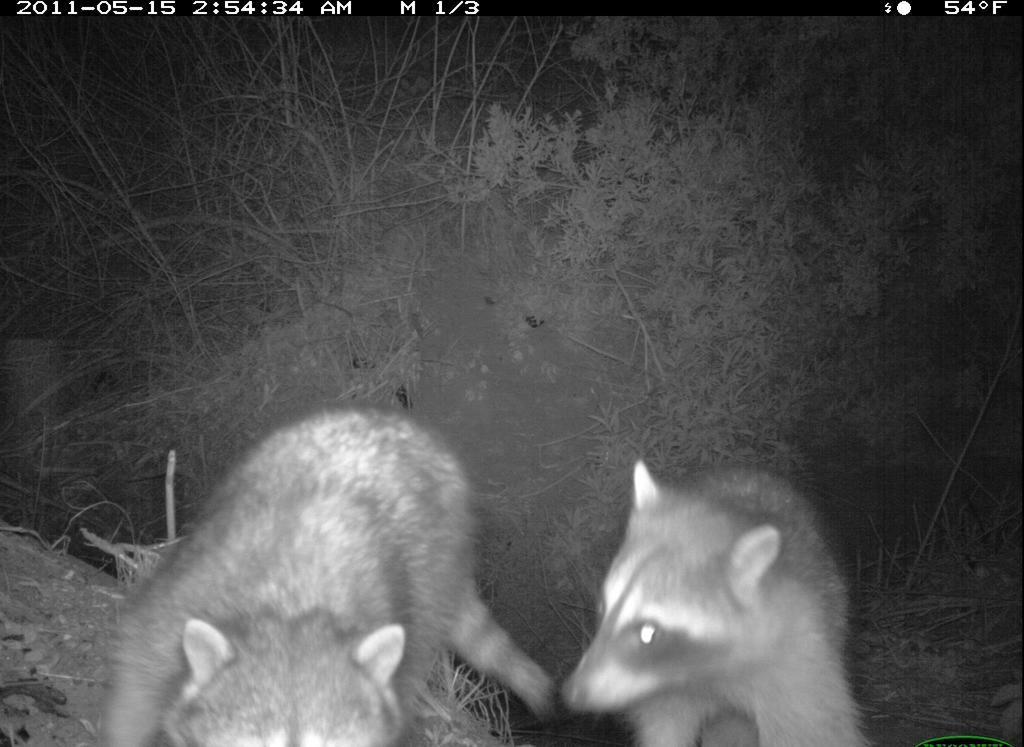raccoon: (111, 401, 546, 747), (559, 446, 875, 747)
